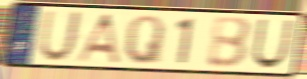1: (174, 16, 199, 66)
A: (73, 12, 122, 65)
B: (206, 16, 254, 70)
Q: (122, 13, 166, 67)
U: (36, 9, 84, 63), (250, 17, 296, 71)
